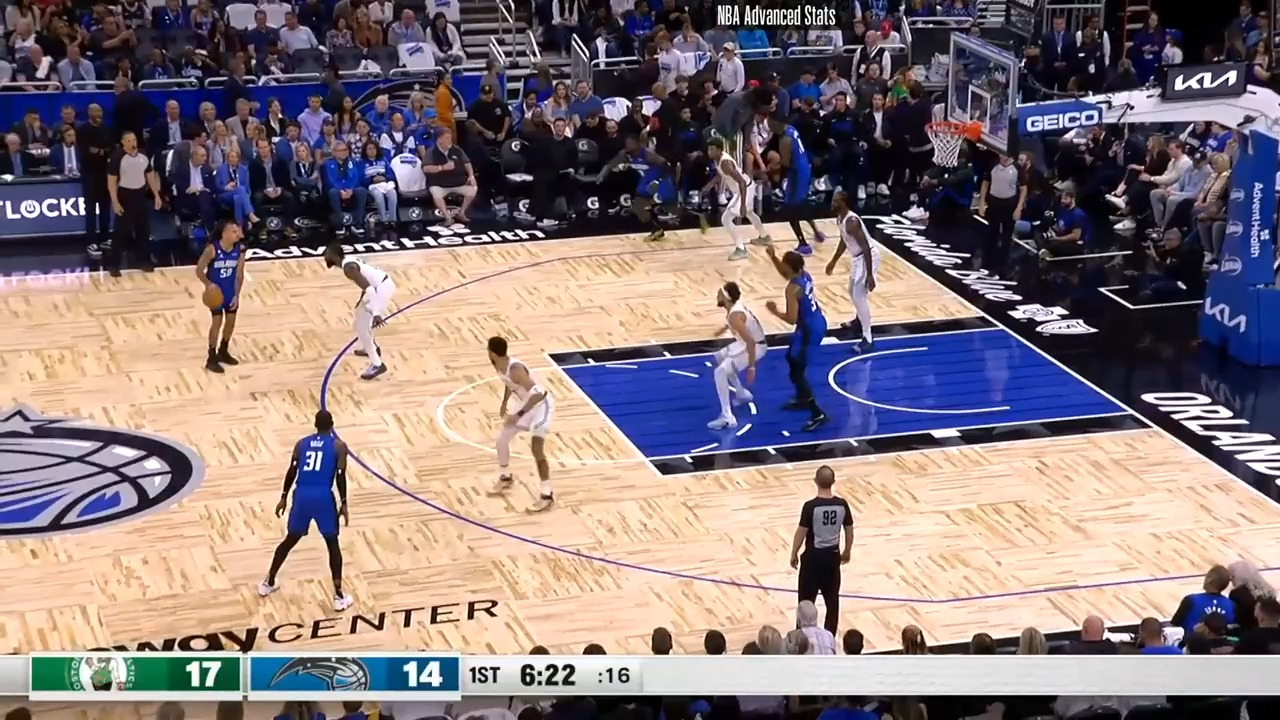net: (922, 114, 982, 168)
player: (254, 412, 363, 612), (476, 332, 572, 511), (752, 245, 829, 429), (324, 241, 415, 384), (818, 190, 890, 355), (698, 282, 770, 440), (694, 142, 777, 267), (197, 218, 261, 376), (755, 112, 822, 258), (594, 132, 677, 249)
referee: (789, 466, 863, 640), (105, 131, 169, 280), (970, 149, 1027, 284)
